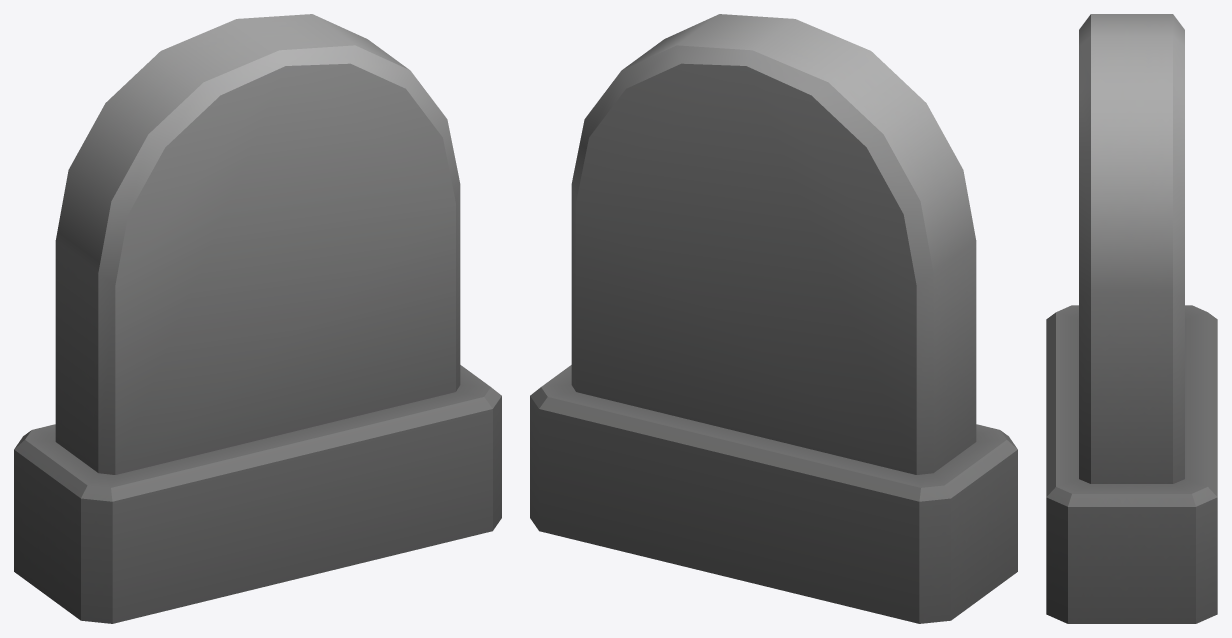
Rendered from TombstoneBlank2.fbx.
3 views of the same model, side by side, from view 1: azimuth 30°, elevation 25°; view 2: azimuth 150°, elevation 25°; view 3: azimuth 270°, elevation 25° (orthographic). The views are drawn at different scales.
Parts seen in each view (by area): view 1: TombstoneBlank2; view 2: TombstoneBlank2; view 3: TombstoneBlank2.
Boxes of the visible parts, bbox=[...] form: TombstoneBlank2: bbox=[14, 14, 501, 623]; TombstoneBlank2: bbox=[530, 14, 1017, 623]; TombstoneBlank2: bbox=[1046, 14, 1217, 623].
Bounding box in the file's own units: 1.16 × 1.35 × 0.4277.
Materials: 1 (1 with a texture image).
